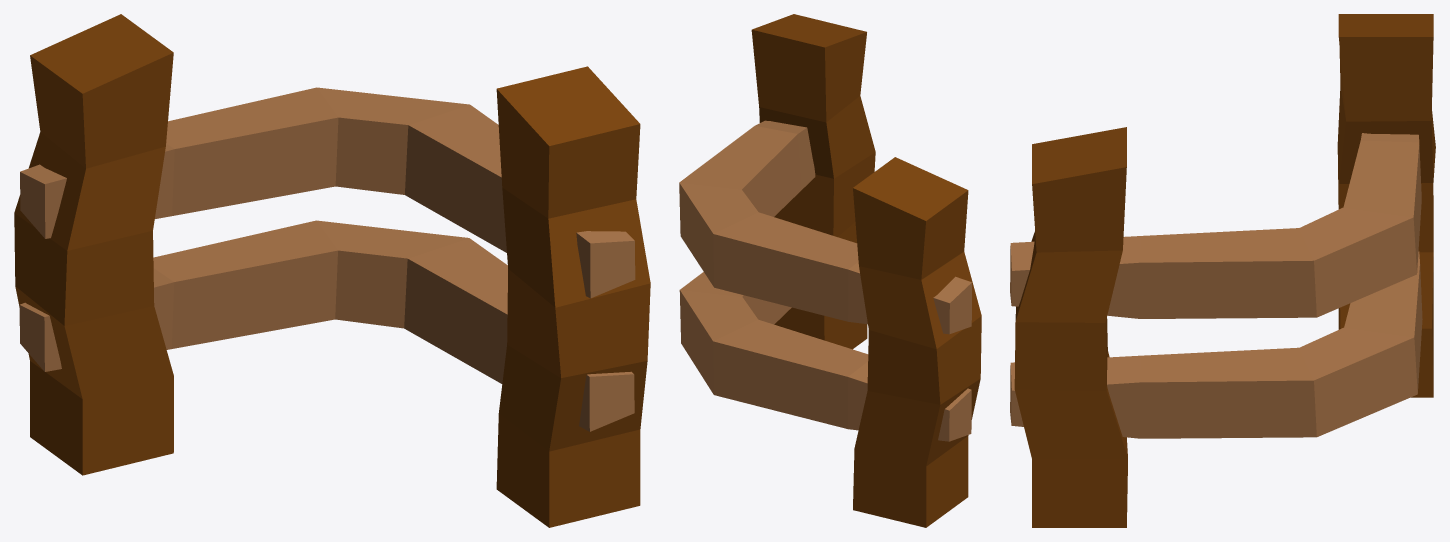
The model's file is cit1Kose.fbx.
3 renders of one model, left to right at view 1: azimuth 30°, elevation 25°; view 2: azimuth 150°, elevation 25°; view 3: azimuth 270°, elevation 25°, orthographic. The views are drawn at different scales.
Parts seen in each view (by area): view 1: BahceCitiİkiliKose; view 2: BahceCitiİkiliKose; view 3: BahceCitiİkiliKose.
Part boxes in pixels (x1,y1,x2,y2): BahceCitiİkiliKose: (14,14,650,527); BahceCitiİkiliKose: (679,14,981,527); BahceCitiİkiliKose: (1010,14,1435,527).
Bounding box in the file's own units: 112 × 105 × 112.
